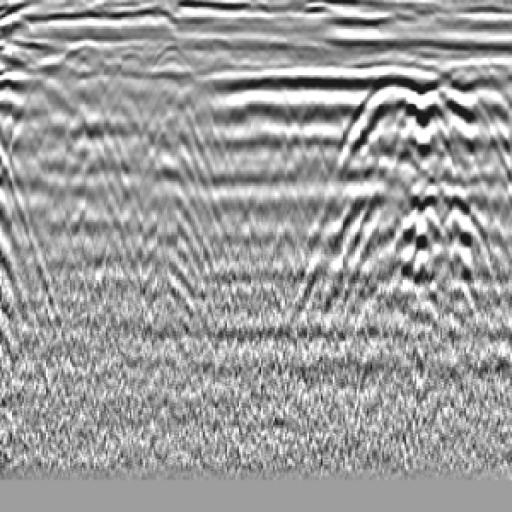non-metallic: (315, 67, 512, 339)
